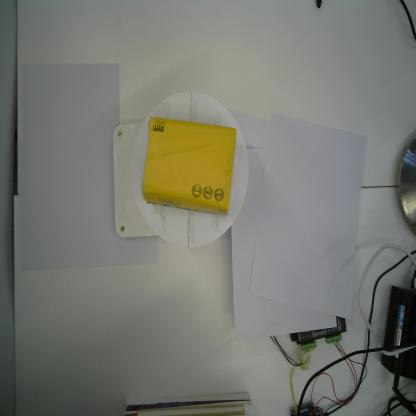Tissue: (141, 115, 237, 218)
